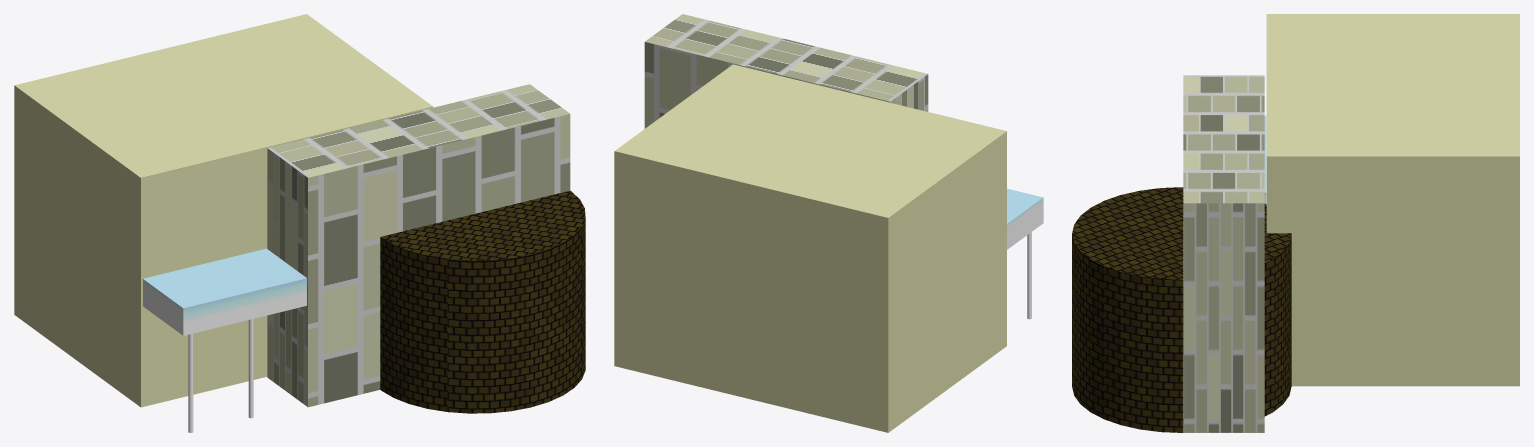
The model's file is arc.glb.
3 views of the same model, side by side, from view 1: azimuth 30°, elevation 25°; view 2: azimuth 150°, elevation 25°; view 3: azimuth 270°, elevation 25° (orthographic). The views are drawn at different scales.
Visible parts, largest first — view 1: Cube, Cube.001, Cylinder, Cube.002, Cylinder.001, Cylinder.002; view 2: Cube, Cube.001, Cube.002, Cylinder.002; view 3: Cube, Cylinder, Cube.001.
Boxes of the visible parts, x1,y1,x2,y2 form: Cube: (14,14,433,407); Cube.001: (267,84,570,407); Cylinder: (380,190,585,413); Cube.002: (143,248,306,335); Cylinder.001: (248,319,253,418); Cylinder.002: (188,333,193,432); Cube: (614,64,1006,432); Cube.001: (644,14,928,128); Cube.002: (1007,188,1043,249); Cylinder.002: (1027,232,1031,319); Cube: (1266,14,1519,386); Cylinder: (1072,187,1291,432); Cube.001: (1183,75,1264,432).
Bounding box in the file's own units: 26.95 × 15.27 × 26.95.
Materials: 6 (4 with a texture image).
